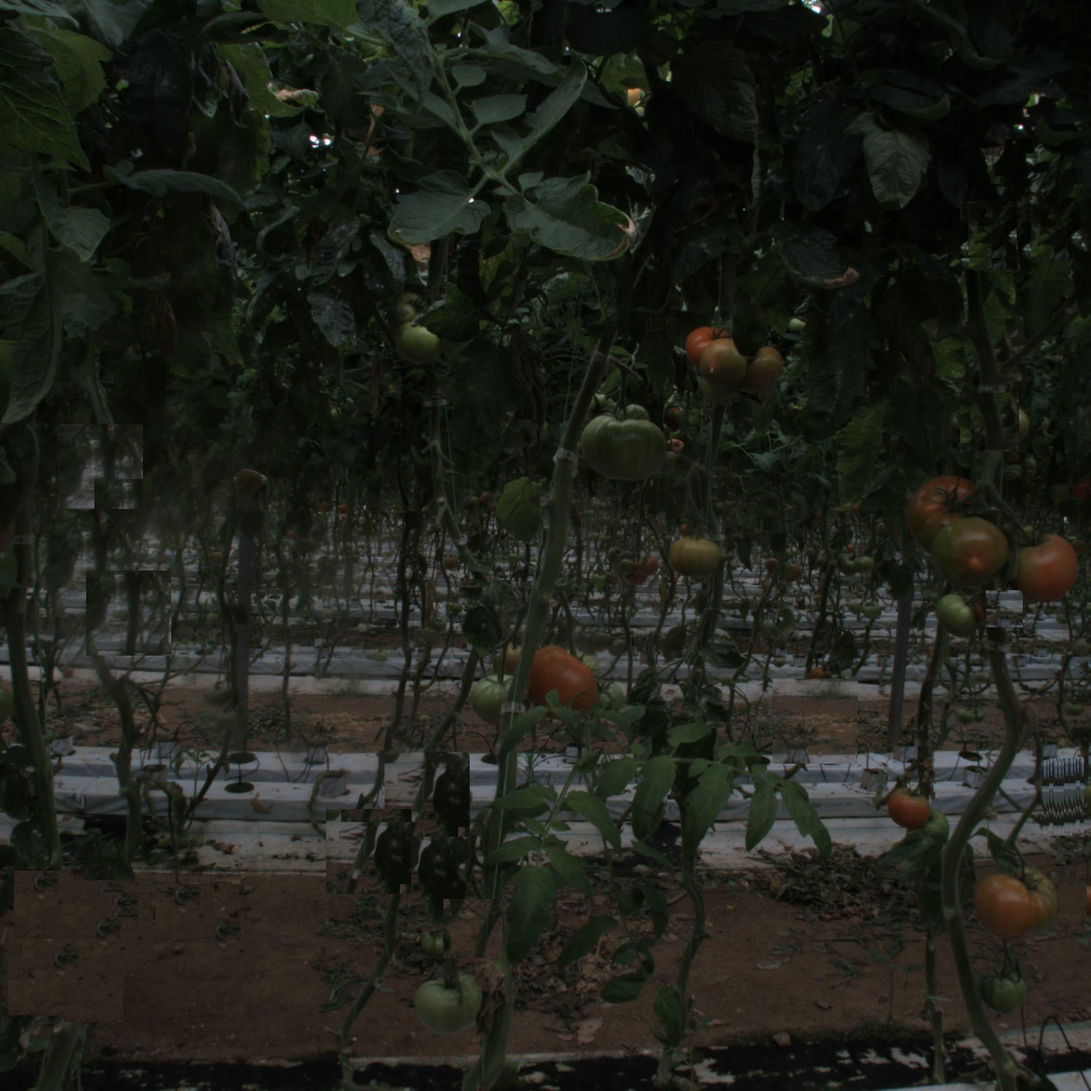fully-ripe: (527, 650, 596, 718), (686, 326, 730, 371)
semi-ripe: (977, 865, 1054, 943), (907, 472, 981, 547), (934, 518, 1009, 592), (1014, 537, 1078, 602), (705, 345, 750, 390), (741, 345, 786, 389), (889, 787, 930, 829)
unripe: (585, 405, 663, 483), (413, 969, 482, 1038), (672, 534, 716, 579), (983, 967, 1028, 1011), (470, 675, 514, 720), (397, 320, 442, 364), (936, 595, 977, 637)
